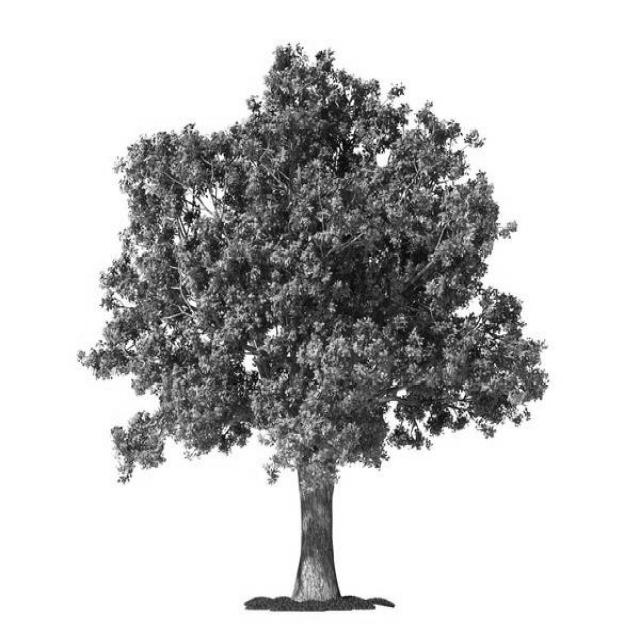Tree: (80, 46, 548, 614)
